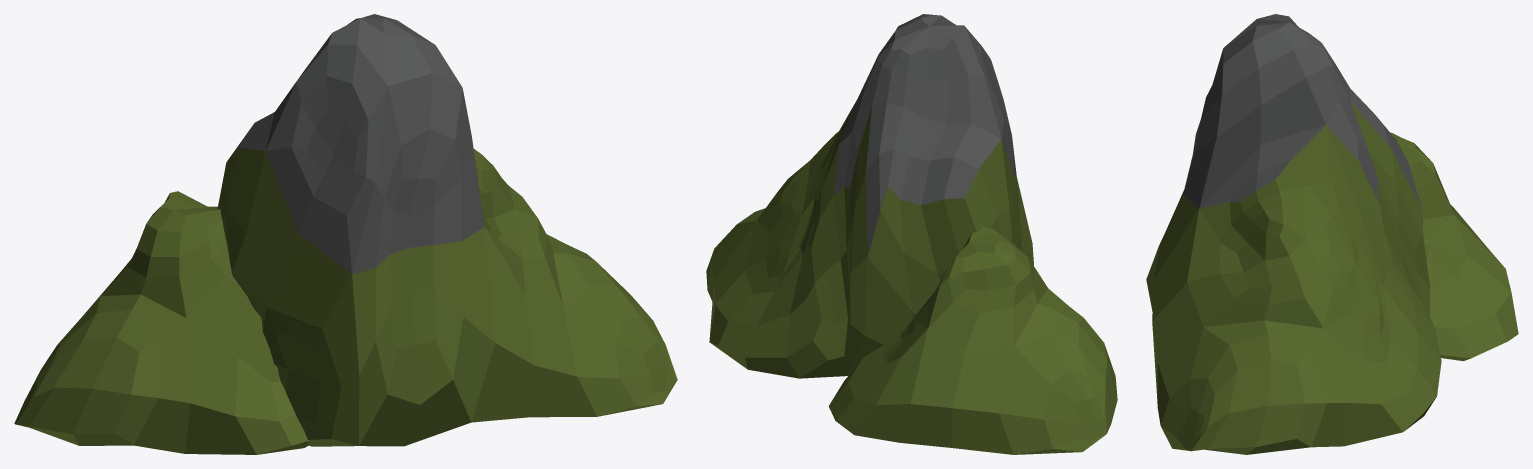
The model's file is MountainTall_v.1.fbx.
The picture shows the model from 3 angles, left to right: view 1: azimuth 30°, elevation 25°; view 2: azimuth 150°, elevation 25°; view 3: azimuth 270°, elevation 25°; orthographic projection. The views are drawn at different scales.
Parts seen in each view (by area): view 1: Cube; view 2: Cube; view 3: Cube.
Boxes of the visible parts, x1=… form: Cube: x1=14, y1=14, x2=677, y2=454; Cube: x1=706, y1=14, x2=1117, y2=454; Cube: x1=1146, y1=14, x2=1518, y2=454.
Size of the model in its own units: 3772 by 2728 by 2614.
